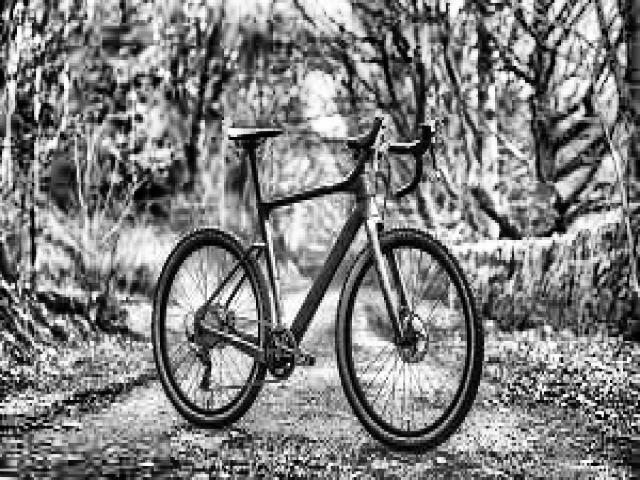cranks_set: (262, 325, 316, 382)
rear_derailleur: (186, 329, 217, 393)
saddle: (226, 122, 284, 148)
sti_shifter: (367, 110, 388, 174), (422, 118, 443, 180)
wheel: (334, 227, 485, 455), (149, 226, 273, 430)
